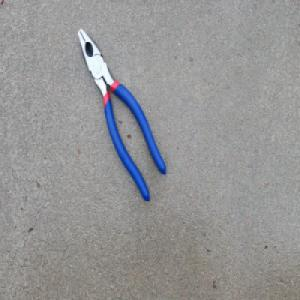Pliers: (77, 24, 167, 202)
